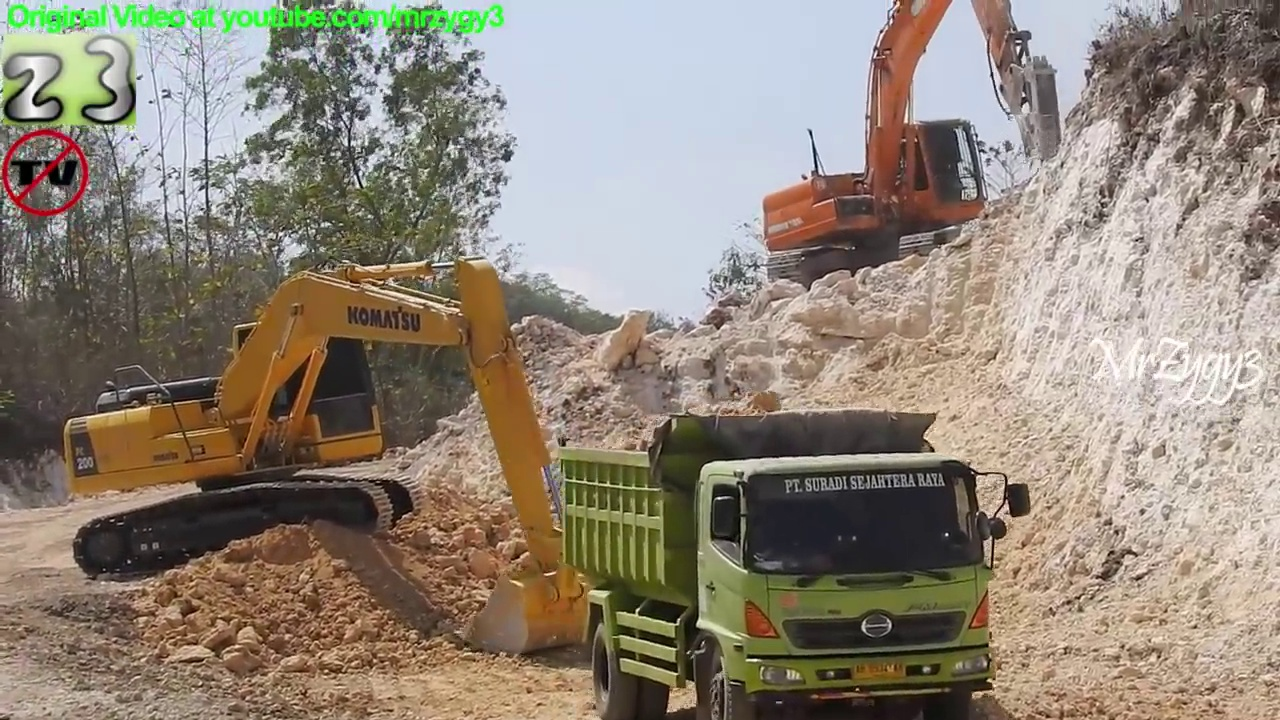excavator: (58, 248, 619, 662), (750, 1, 1072, 303)
truck: (551, 405, 1041, 720)
